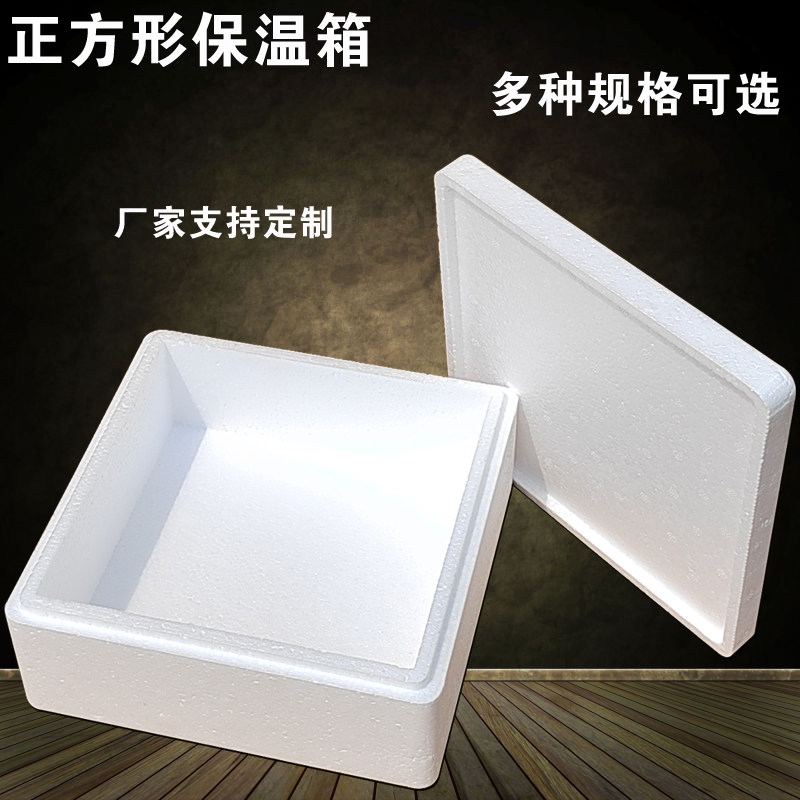Boxes: (6, 156, 794, 788)
